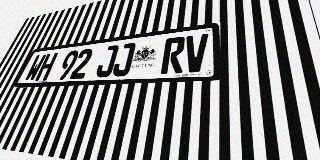2: (69, 48, 94, 79)
9: (56, 50, 80, 80)
H: (35, 52, 58, 81)
J: (111, 42, 136, 77), (94, 45, 119, 78)
R: (160, 36, 186, 74)
V: (183, 33, 208, 73)
W: (23, 54, 47, 82)
